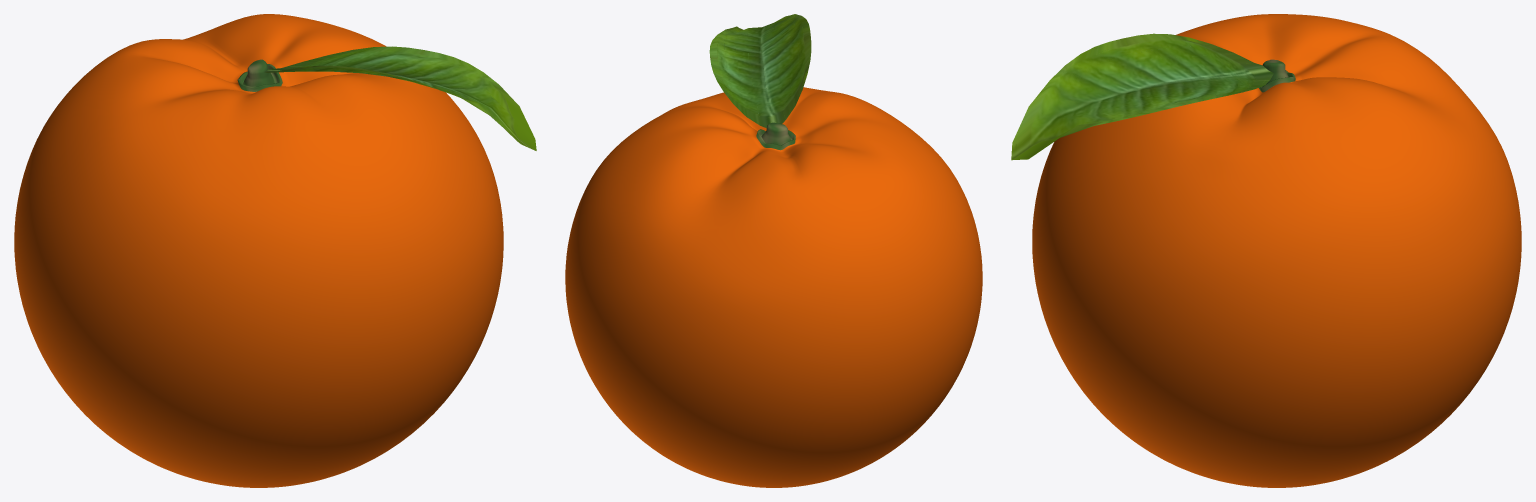
3 views of the same model, side by side, from view 1: azimuth 30°, elevation 25°; view 2: azimuth 150°, elevation 25°; view 3: azimuth 270°, elevation 25° (orthographic). The views are drawn at different scales.
Visible parts, largest first — view 1: orange.029_0, gnodes.001_1; view 2: orange.029_0, gnodes.001_1; view 3: orange.029_0, gnodes.001_1.
Boxes of the visible parts, <box> form: orange.029_0: <box>14,14,503,487</box>; gnodes.001_1: <box>264,46,536,150</box>; orange.029_0: <box>565,87,982,487</box>; gnodes.001_1: <box>709,14,811,128</box>; orange.029_0: <box>1032,14,1521,487</box>; gnodes.001_1: <box>1011,33,1273,160</box>.
Size of the model in its own units: 0.078 by 0.0787 by 0.0813.
Materials: 2 (2 with a texture image).
